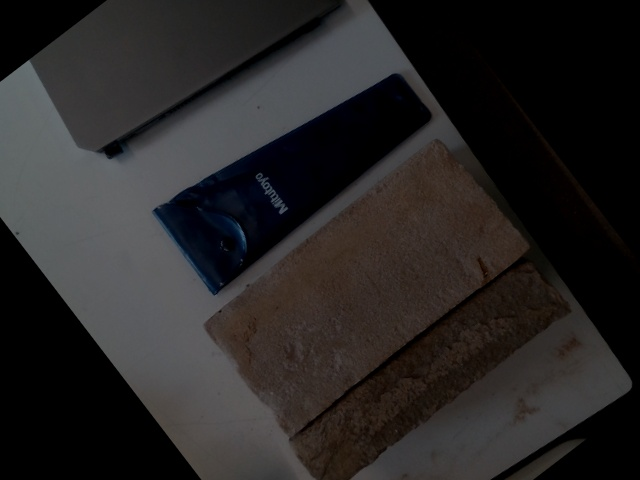brick: (208, 138, 523, 434)
